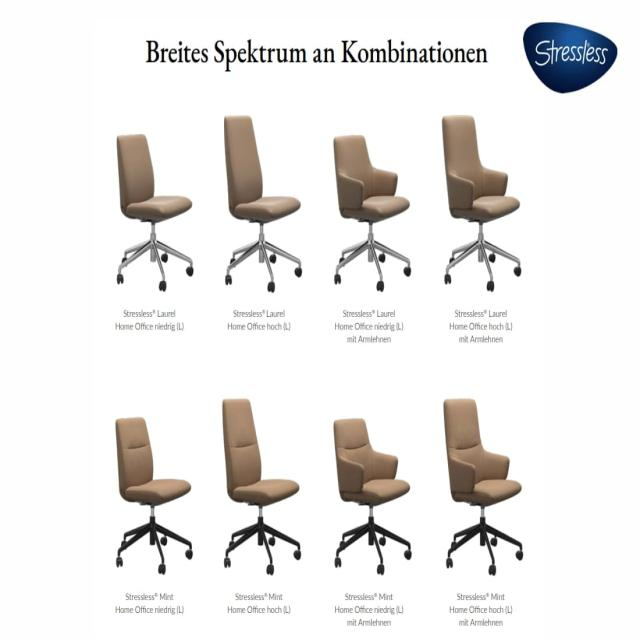chair: (442, 398, 524, 576), (441, 114, 521, 292), (221, 398, 301, 576), (223, 114, 302, 292), (115, 132, 193, 292), (114, 416, 192, 574), (333, 416, 411, 574), (333, 134, 411, 291)
